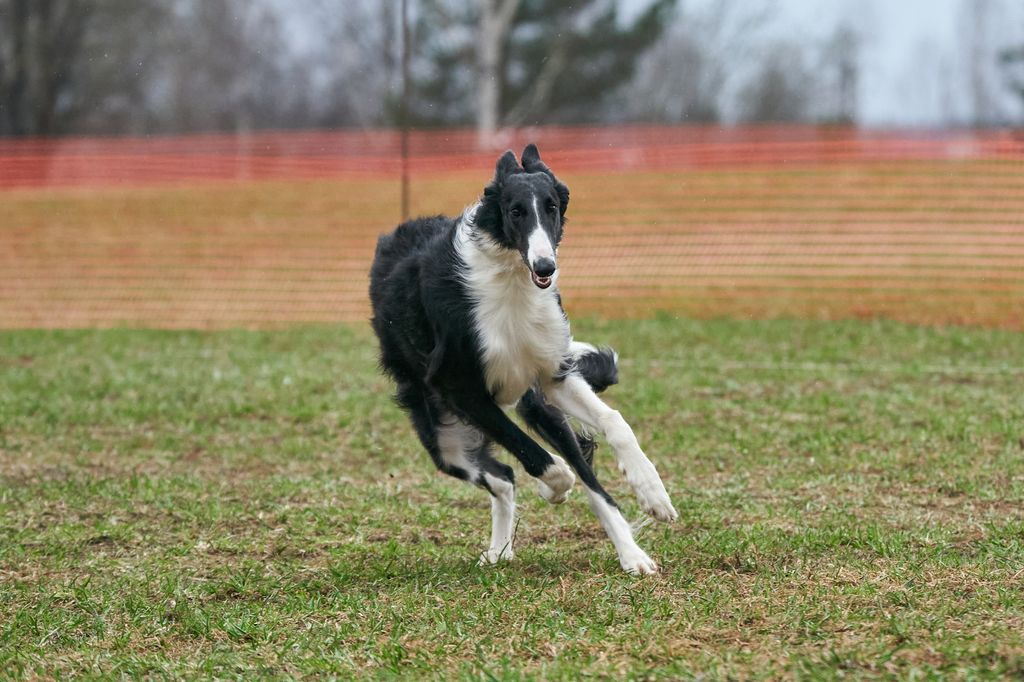borzoi: (366, 142, 683, 581)
